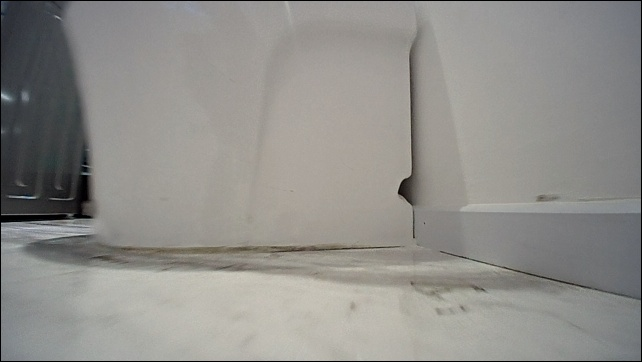toilet: (65, 1, 419, 249)
